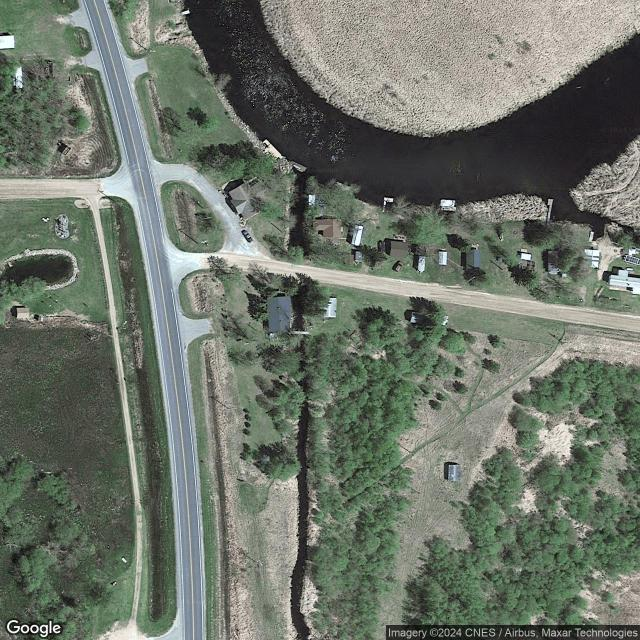Propane: (626, 266, 634, 271)
